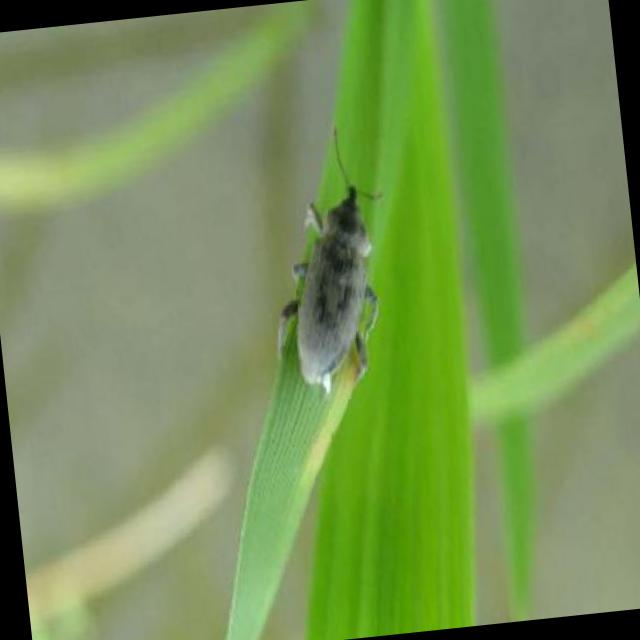rice-bug: (273, 172, 384, 394)
